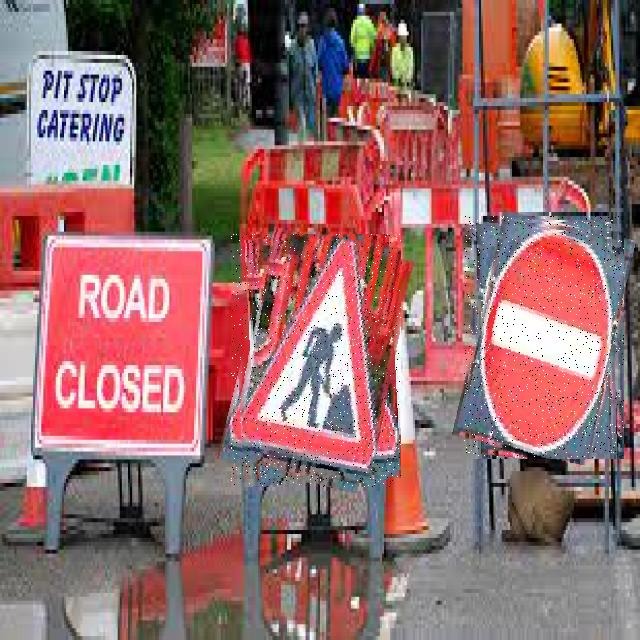no entry: (464, 216, 624, 459)
roadwork: (231, 234, 401, 487)
